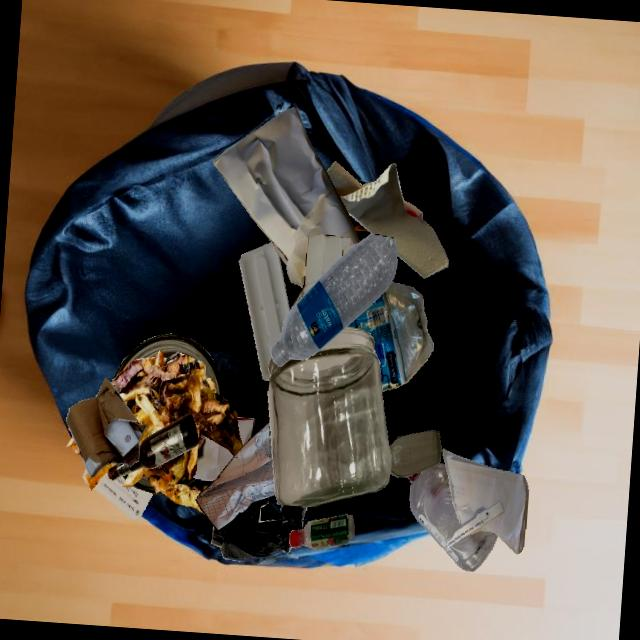biowaste: (110, 349, 242, 473)
cardboard: (326, 160, 448, 278), (65, 377, 146, 478), (291, 234, 354, 308), (342, 243, 356, 255)
glass: (267, 326, 390, 507), (111, 365, 189, 485), (124, 333, 223, 398), (107, 413, 198, 480), (389, 429, 441, 477), (347, 212, 369, 231)
paper: (213, 107, 359, 288), (442, 448, 528, 554), (196, 422, 275, 530), (92, 470, 153, 520), (192, 433, 234, 480), (237, 417, 255, 446)
plastic: (270, 233, 397, 366), (406, 463, 498, 571), (347, 281, 433, 391), (239, 242, 289, 380), (211, 496, 306, 561), (288, 514, 354, 549)
